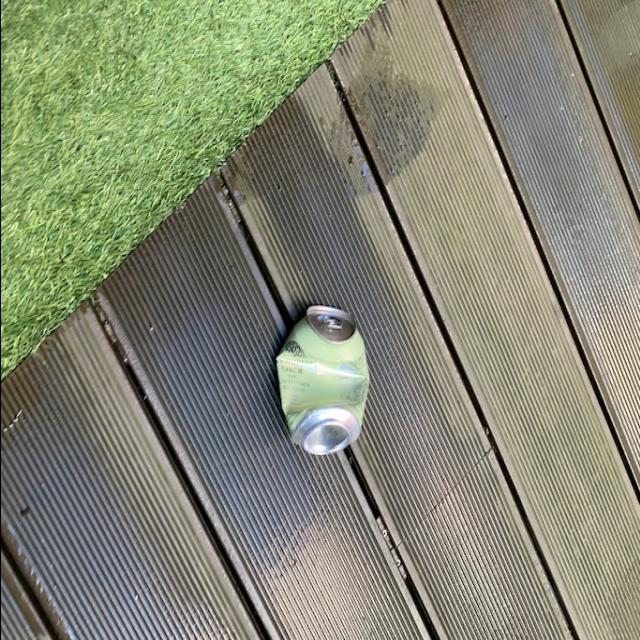litter: (274, 304, 370, 456)
